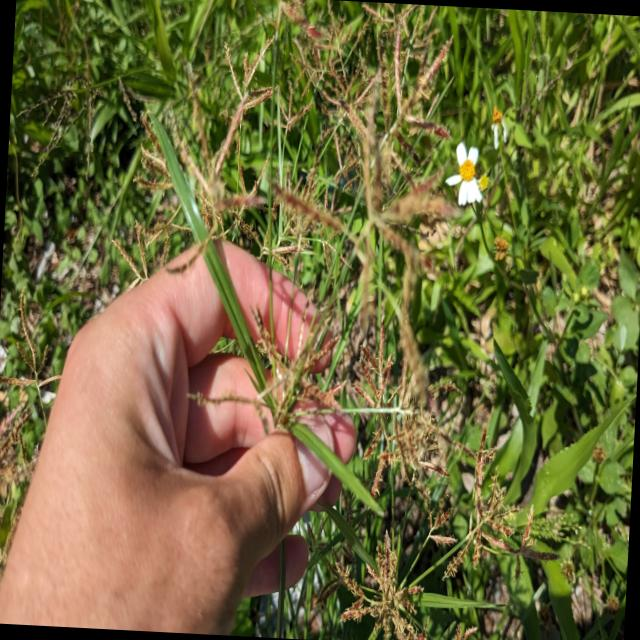cyperus: (272, 0, 457, 181), (224, 286, 333, 459), (210, 146, 356, 272), (350, 327, 447, 500), (119, 106, 222, 262), (446, 427, 528, 593), (324, 525, 432, 640), (0, 290, 68, 441), (210, 25, 280, 142)
